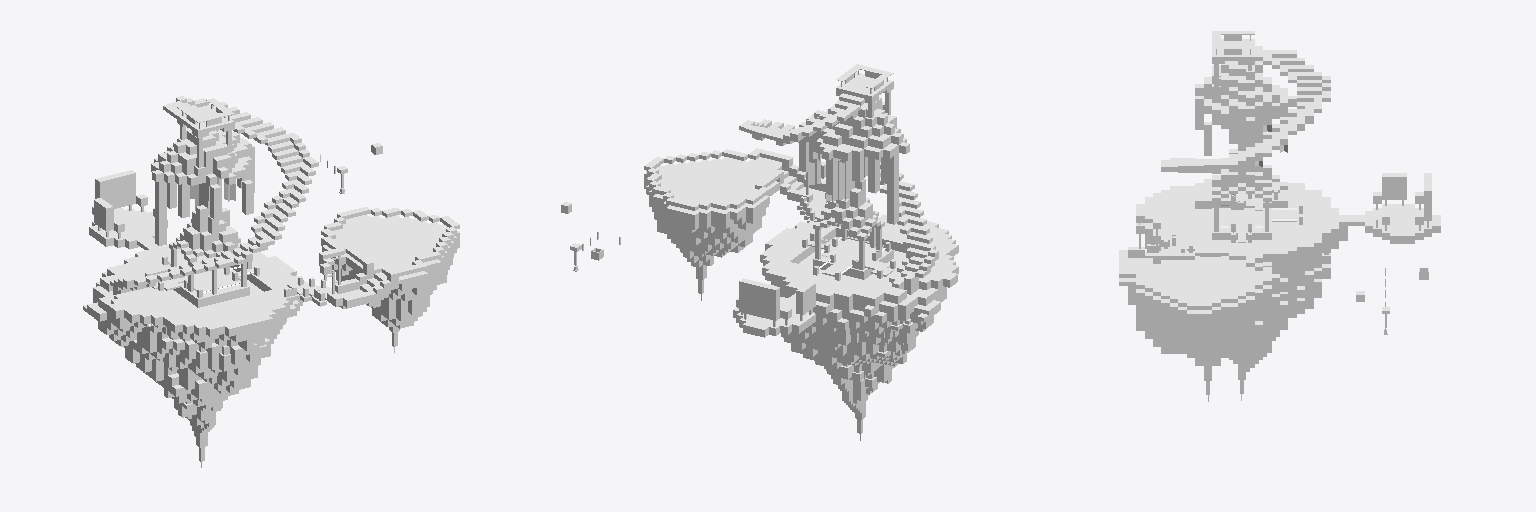
The model's file is spawn.obj.
3 renders of one model, left to right at view 1: azimuth 30°, elevation 25°; view 2: azimuth 150°, elevation 25°; view 3: azimuth 270°, elevation 25°, orthographic.
Parts seen in each view (by area): view 1: spawn__-277_20_49_to_-232_201_90; view 2: spawn__-277_20_49_to_-232_201_90; view 3: spawn__-277_20_49_to_-232_201_90.
Part boxes in pixels (left/top/right/bottom): spawn__-277_20_49_to_-232_201_90: left=83, top=96, right=459, bottom=467; spawn__-277_20_49_to_-232_201_90: left=561, top=64, right=958, bottom=440; spawn__-277_20_49_to_-232_201_90: left=1119, top=31, right=1440, bottom=401.
Bounding box in the file's own units: 45 × 47.06 × 38.